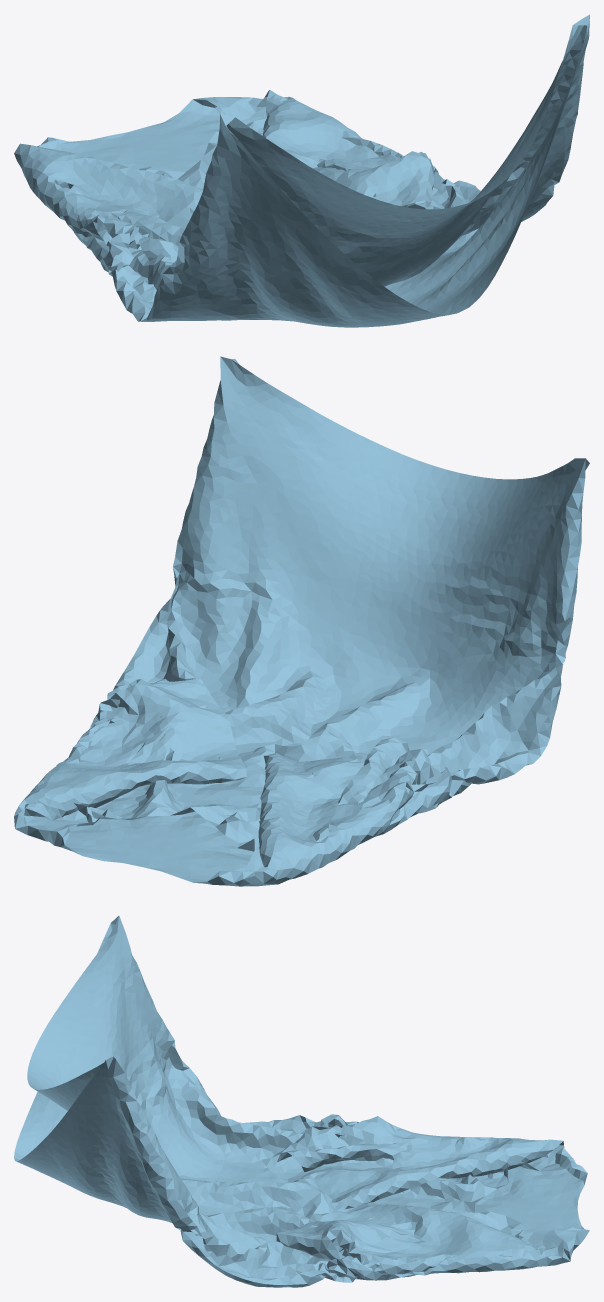
File: frame_06.glb
3 renders of one model, top to bottom at view 1: azimuth 30°, elevation 25°; view 2: azimuth 150°, elevation 25°; view 3: azimuth 270°, elevation 25°, orthographic. The views are drawn at different scales.
Parts seen in each view (by area): view 1: frame_06.obj; view 2: frame_06.obj; view 3: frame_06.obj.
Part boxes in pixels (x1,y1,x2,y2): frame_06.obj: [14, 14, 589, 327]; frame_06.obj: [14, 356, 589, 886]; frame_06.obj: [14, 915, 589, 1287].
Bounding box in the file's own units: 1.11 × 0.7331 × 1.62.
